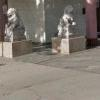Statue: (49, 4, 87, 49)
